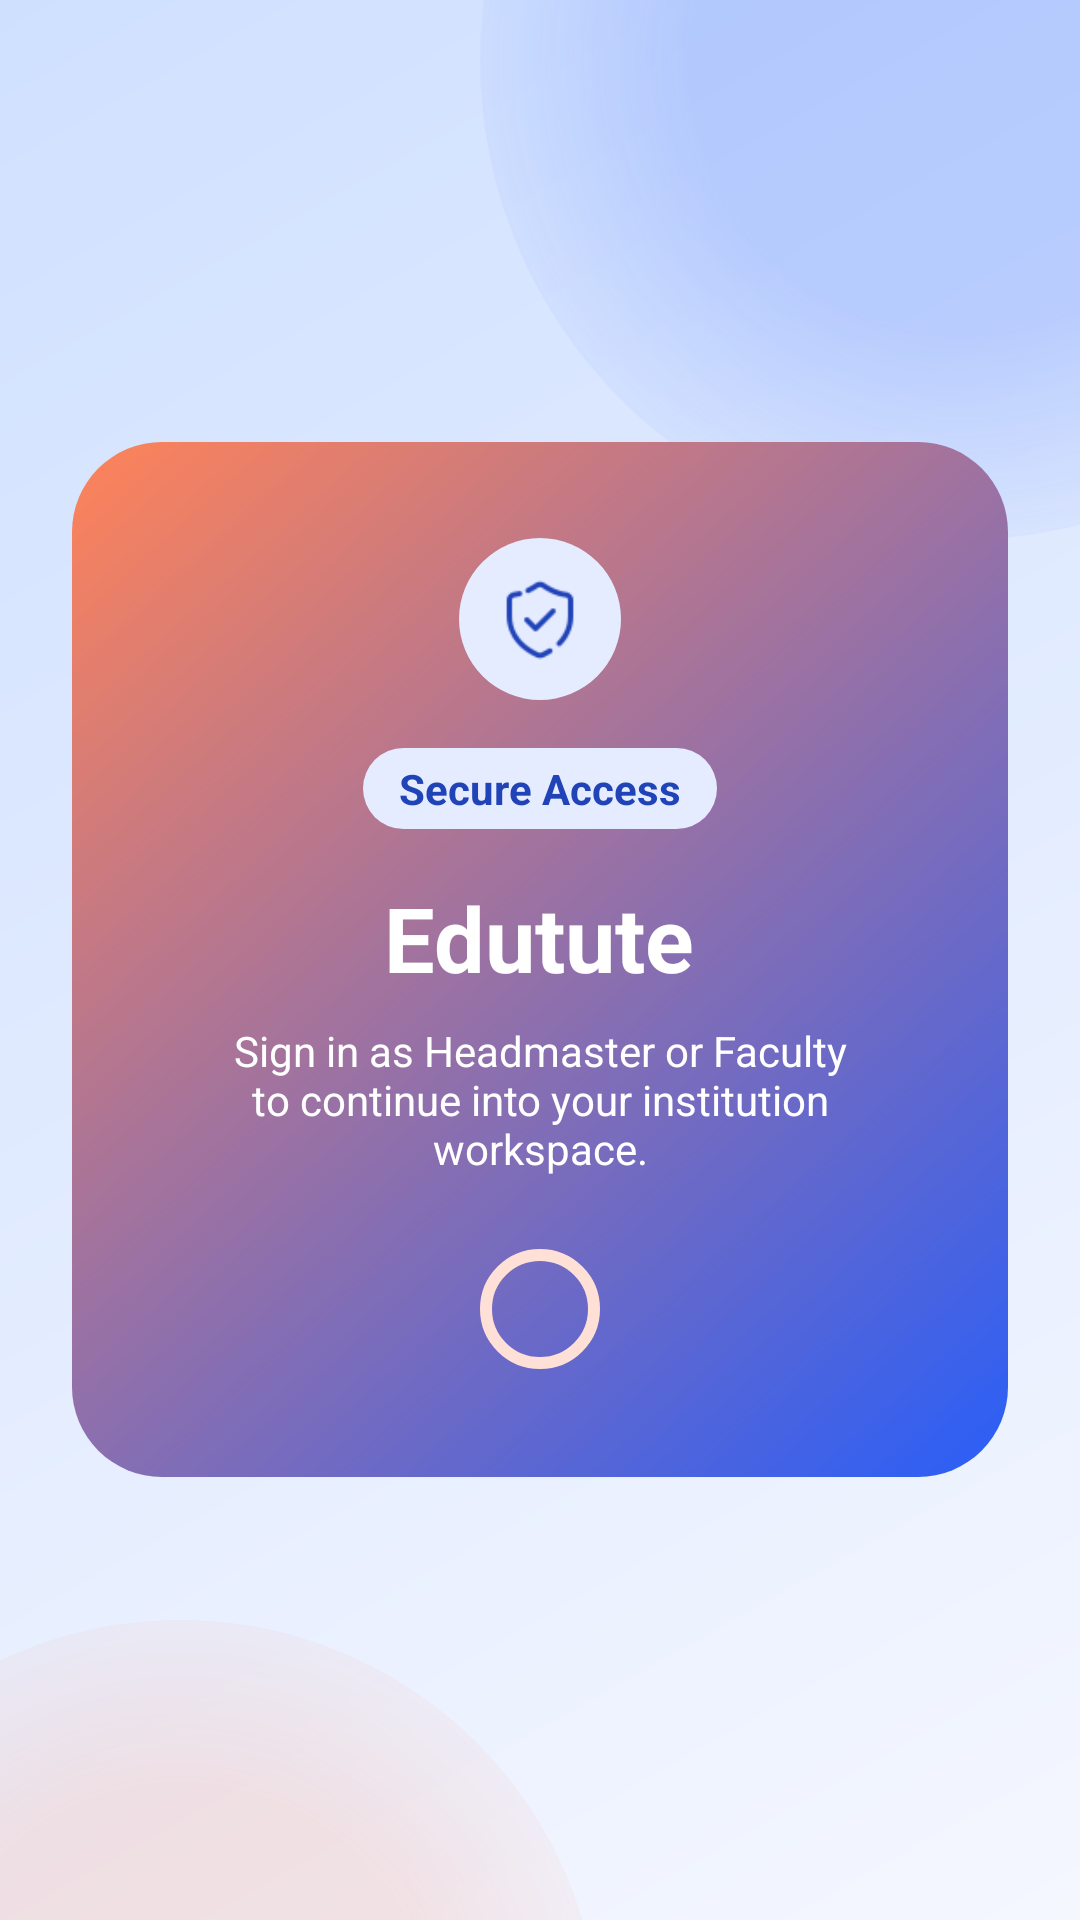

Where icons sit on this 1080x1920 app screen, as (x1, y1, x2, y2):
shield: (506, 581, 574, 659)
